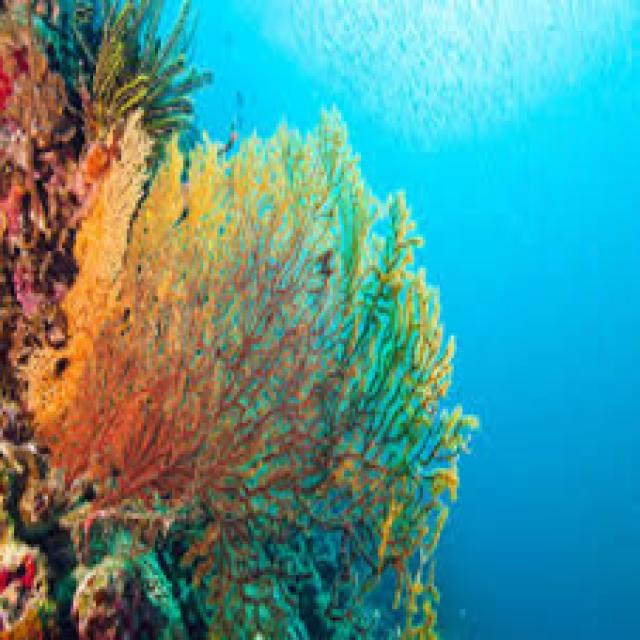Healthy: (32, 114, 472, 638), (1, 1, 83, 300), (74, 1, 210, 176)
